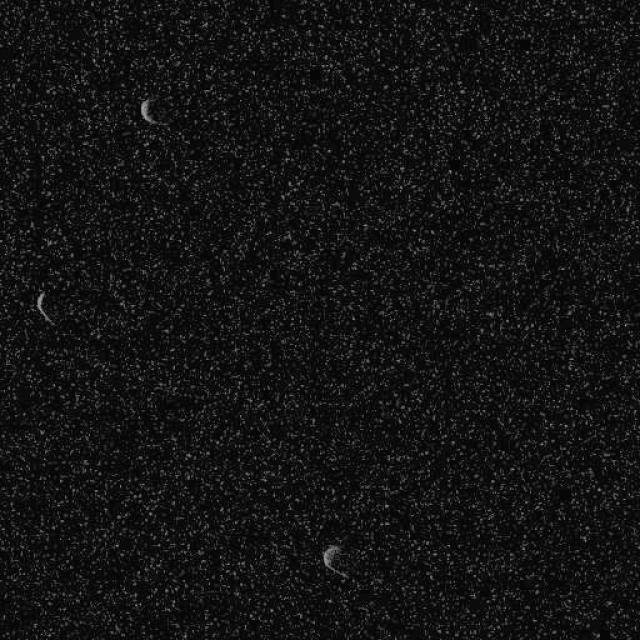D2: (320, 542, 349, 580), (139, 96, 169, 126), (34, 289, 55, 326)
